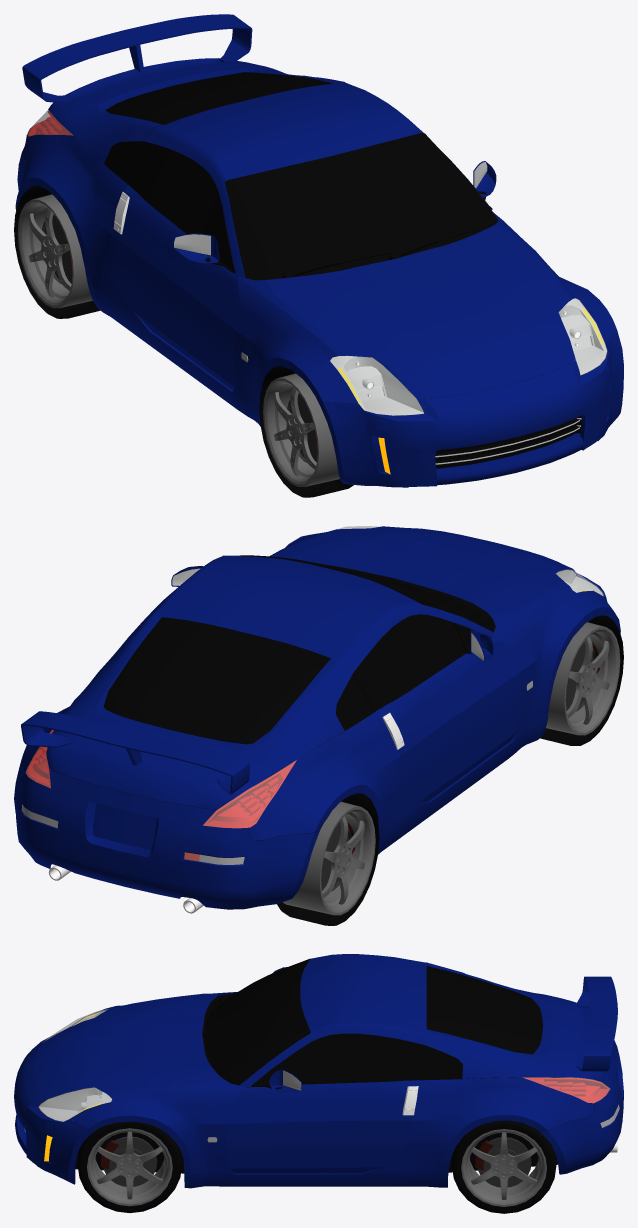
The model's file is car.glb.
3 views of the same model, one above another, from view 1: azimuth 30°, elevation 25°; view 2: azimuth 150°, elevation 25°; view 3: azimuth 270°, elevation 25° (orthographic). The views are drawn at different scales.
Visible parts, largest first — view 1: car; view 2: car; view 3: car.
Part boxes in pixels (x1,y1,x2,y2): car: [14, 14, 623, 497]; car: [14, 526, 623, 925]; car: [14, 954, 623, 1213].
Size of what is drawn, in the model's own units: 1.98 by 1.38 by 4.35.
